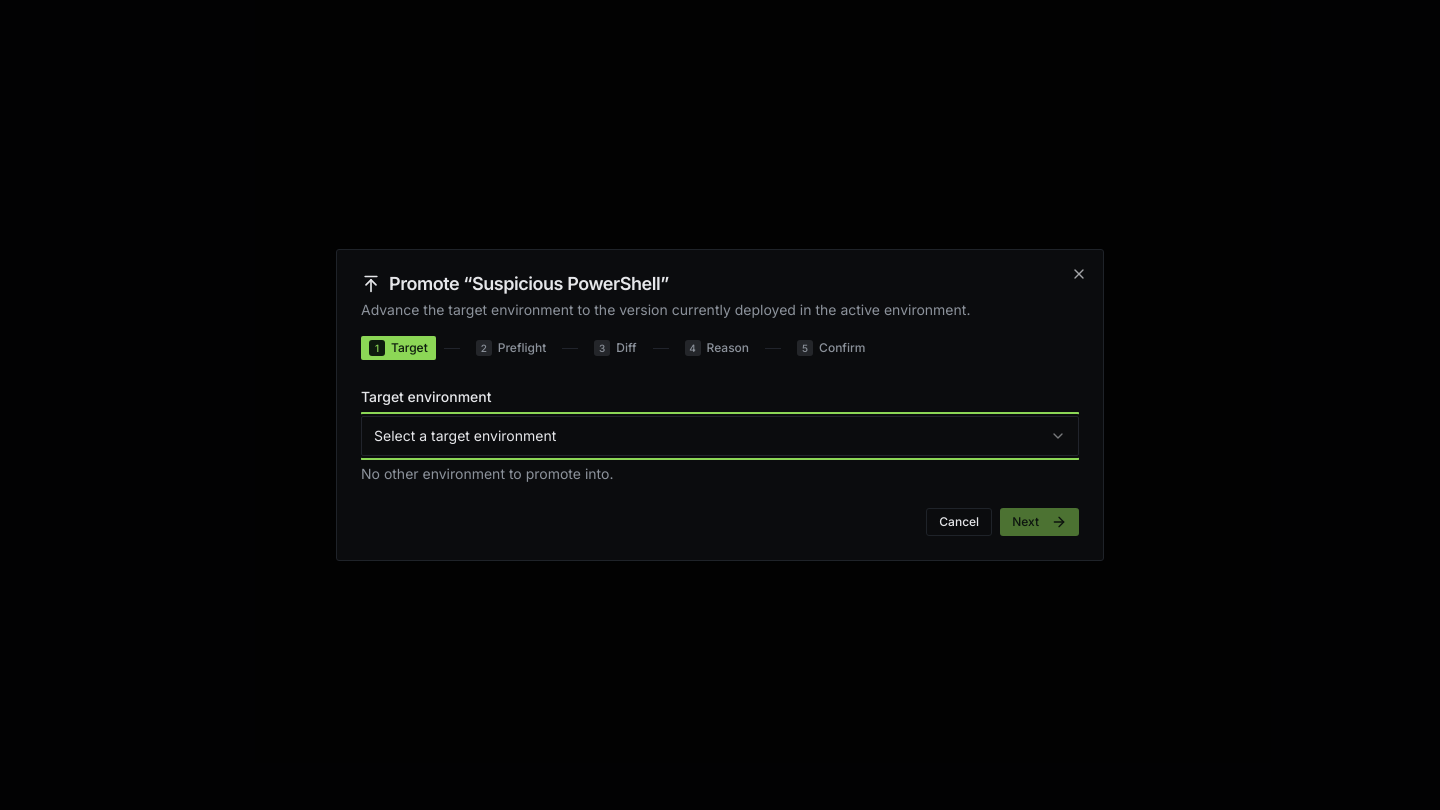
Test: PromoteDialog › excludes the source/active env from the target options
Click the dropdown labelled "target environment" at (465, 436), box [361,416,1079,456]
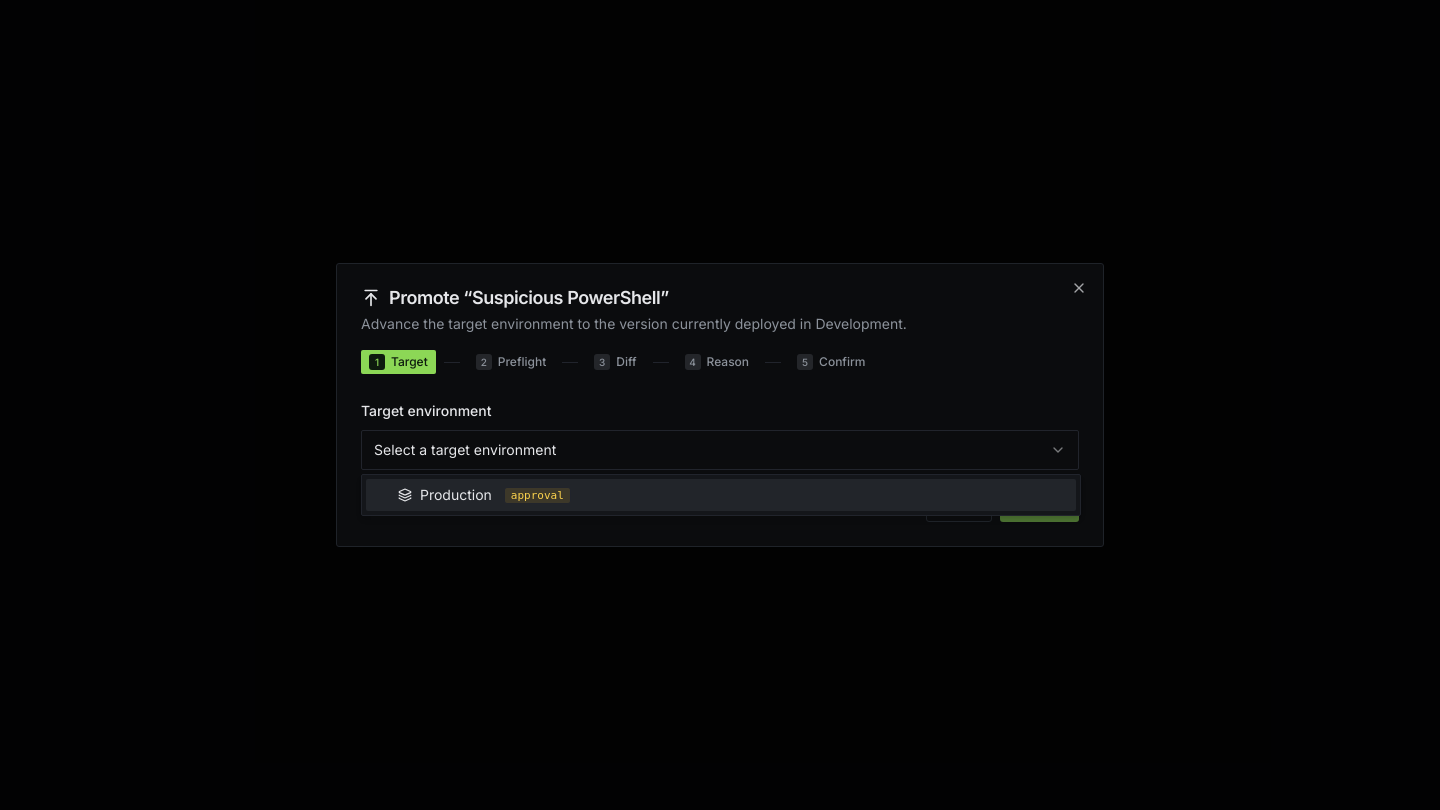
Expected: the option "Production approval" is shown, [366,479,1076,511]
